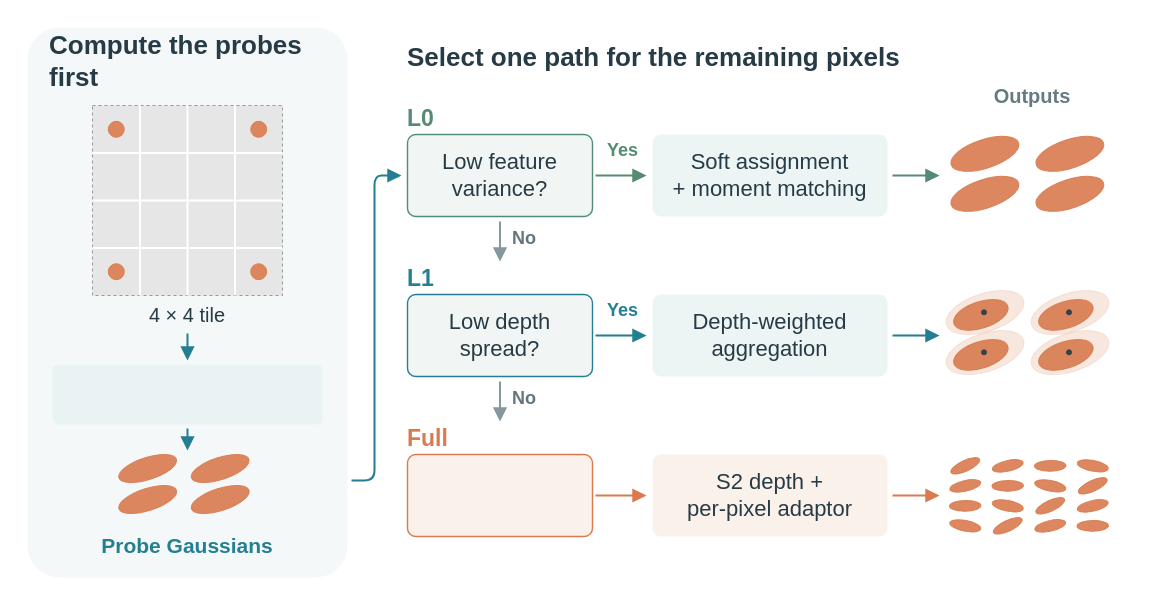
The diagram is 1174 pixels wide and 604 high, and some of its shapes have lost their labels. Grey dashed boxes stand in for pictures. The shapes that lost their labels are listed below. From the top down, each one's box as (x1, y1, x2, y2) in pixels, then its label:
(52, 364, 322, 424): Original depth + Gaussian adaptor
(406, 453, 593, 537): Irregular tile
